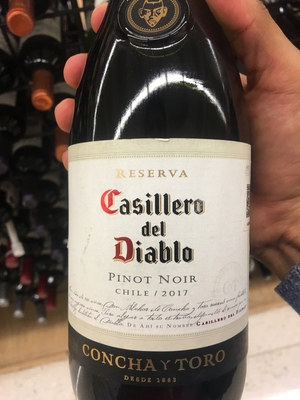casillero del diablo pinot noir: (56, 3, 259, 400)
